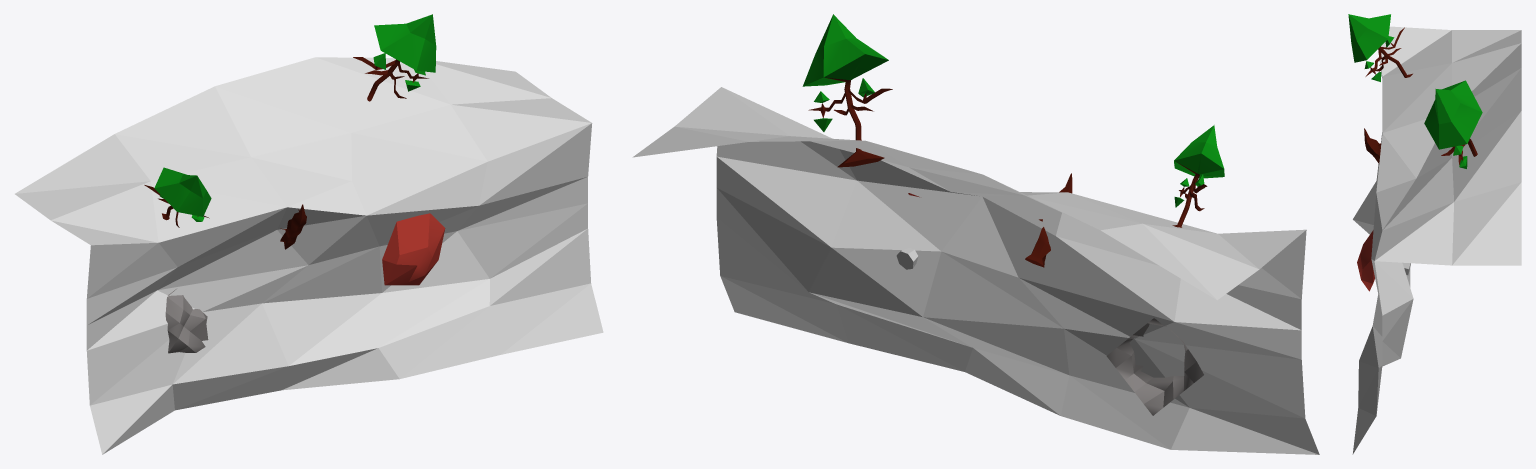
File: Jungle_wall_3.FBX
The picture shows the model from 3 angles, left to right: view 1: azimuth 30°, elevation 25°; view 2: azimuth 150°, elevation 25°; view 3: azimuth 270°, elevation 25°; orthographic projection. The views are drawn at different scales.
Parts seen in each view (by area): view 1: Wall_007, ForestLevelLightGreenTree3Asset001, ForestLevelRedMushroom4Asset, ForestLevelLightGreenTree3Asset, ForestLevelStones1Asset; view 2: Wall_007, ForestLevelLightGreenTree3Asset001, ForestLevelStones1Asset, ForestLevelLightGreenTree3Asset; view 3: Wall_007, ForestLevelLightGreenTree3Asset001, ForestLevelLightGreenTree3Asset, ForestLevelRedMushroom4Asset, ForestLevelLog1Asset.
Part boxes in pixels (x1,y1,x2,y2): Wall_007: (15,57,603,454); ForestLevelLightGreenTree3Asset001: (353,14,436,101); ForestLevelRedMushroom4Asset: (382,213,445,285); ForestLevelLightGreenTree3Asset: (144,167,211,227); ForestLevelStones1Asset: (165,289,208,353); Wall_007: (632,87,1319,454); ForestLevelLightGreenTree3Asset001: (802,14,892,167); ForestLevelStones1Asset: (1106,318,1203,415); ForestLevelLightGreenTree3Asset: (1172,125,1224,227); Wall_007: (1352,26,1521,454); ForestLevelLightGreenTree3Asset001: (1424,80,1482,168); ForestLevelLightGreenTree3Asset: (1348,14,1412,81); ForestLevelRedMushroom4Asset: (1357,230,1410,291); ForestLevelLog1Asset: (1364,128,1381,163).
Bounding box in the file's own units: 4000 × 2426 × 1246.
